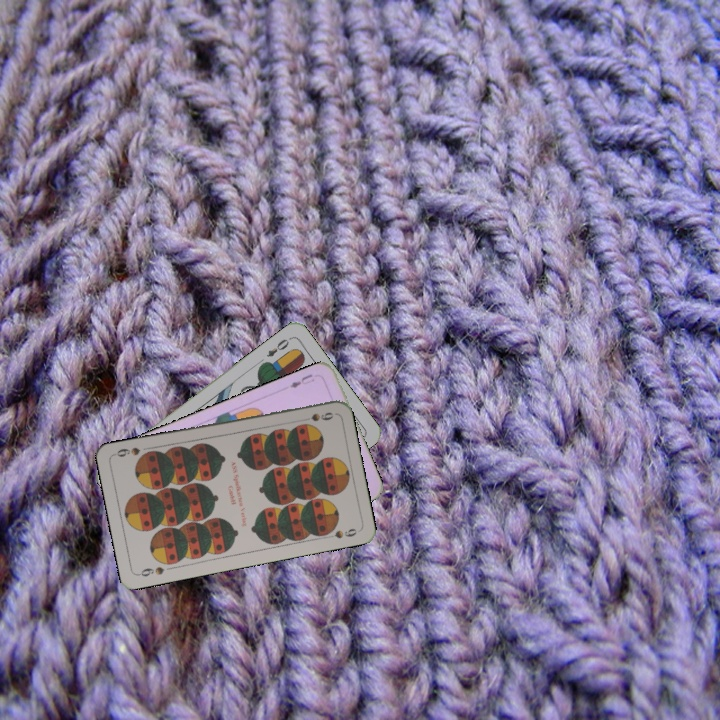EO: (263, 333, 294, 360)
EU: (286, 370, 317, 391)
S9: (296, 408, 336, 424), (134, 563, 167, 579)
